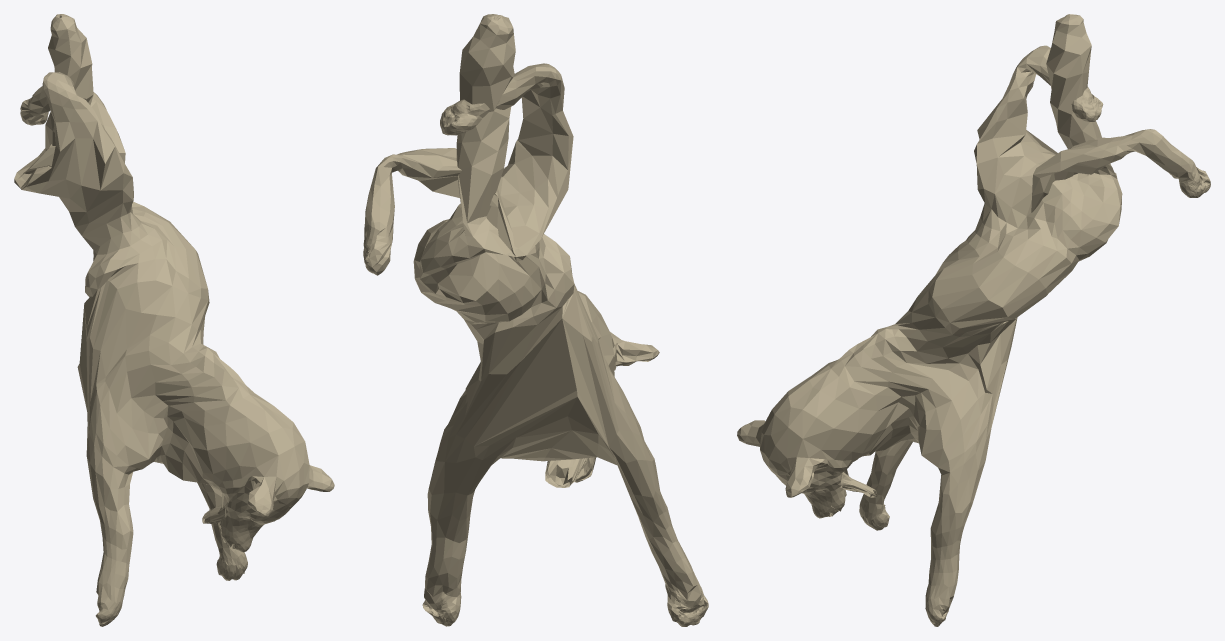
The picture shows the model from 3 angles, left to right: view 1: azimuth 30°, elevation 25°; view 2: azimuth 150°, elevation 25°; view 3: azimuth 270°, elevation 25°; orthographic projection. The views are drawn at different scales.
Parts seen in each view (by area): view 1: world; view 2: world; view 3: world.
Part boxes in pixels (x1,y1,x2,y2): world: (14,14,334,626); world: (363,14,708,626); world: (737,14,1210,626).
Bounding box in the file's own units: 0.4801 × 1.24 × 0.9538.
